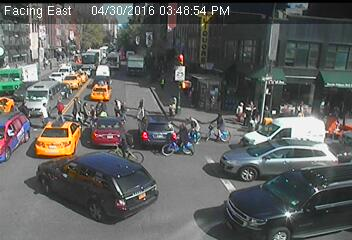neg: (166, 117, 197, 158), (205, 110, 231, 145), (179, 111, 202, 142), (118, 133, 139, 161)
pos: (132, 94, 151, 120), (235, 98, 253, 122), (36, 100, 53, 123), (69, 95, 85, 116), (52, 97, 68, 118), (164, 94, 179, 115), (109, 97, 124, 117), (79, 100, 94, 120), (96, 100, 109, 117), (296, 100, 307, 115), (86, 104, 96, 118), (20, 100, 29, 112)
